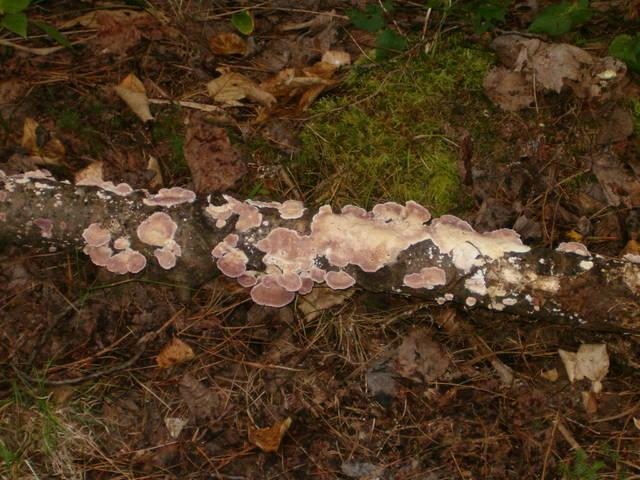poisonous_mushroom: (8, 165, 605, 309)
